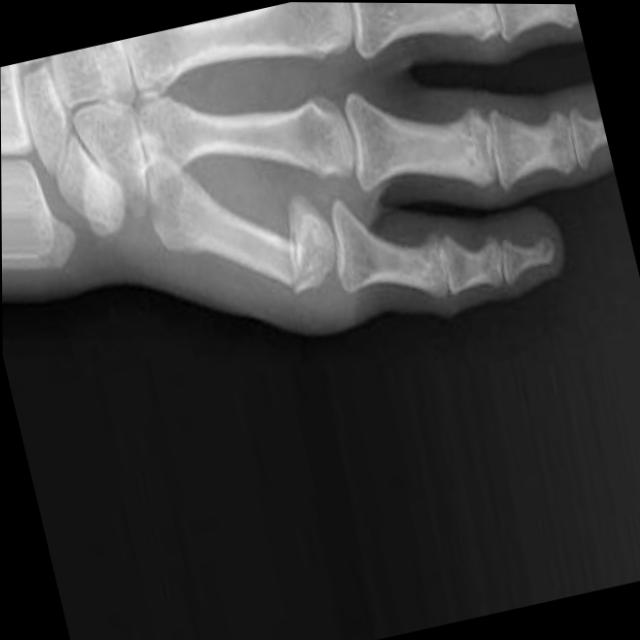fracture: (260, 177, 333, 297)
